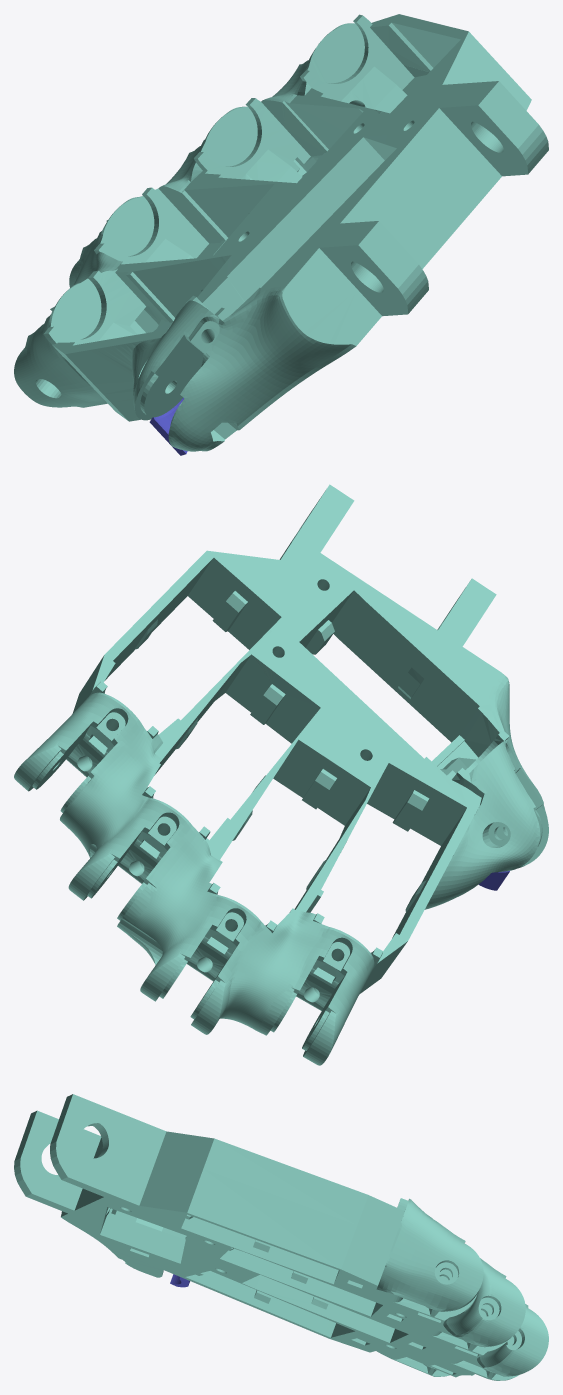
File: right_wrist_z_link_visual_3.obj
3 renders of one model, top to bottom at view 1: azimuth 30°, elevation 25°; view 2: azimuth 150°, elevation 25°; view 3: azimuth 270°, elevation 25°, orthographic. The views are drawn at different scales.
Parts seen in each view (by area): view 1: KidsBaseV4.009_visual.001; view 2: KidsBaseV4.009_visual.001; view 3: KidsBaseV4.009_visual.001.
Boxes of the visible parts, x1,y1,x2,y2 form: KidsBaseV4.009_visual.001: (14, 14, 548, 455); KidsBaseV4.009_visual.001: (14, 484, 548, 1065); KidsBaseV4.009_visual.001: (14, 1094, 548, 1380).
Size of the model in its own units: 0.9967 by 0.9886 by 1.31.
